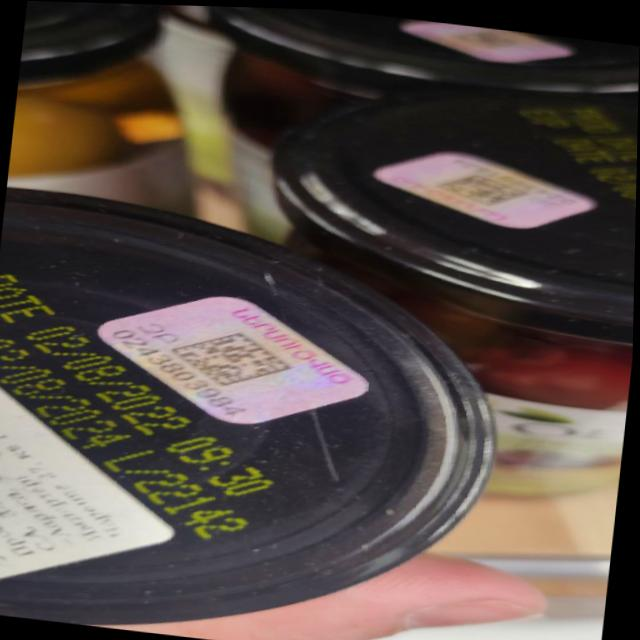datamatrix: (170, 321, 301, 392)
